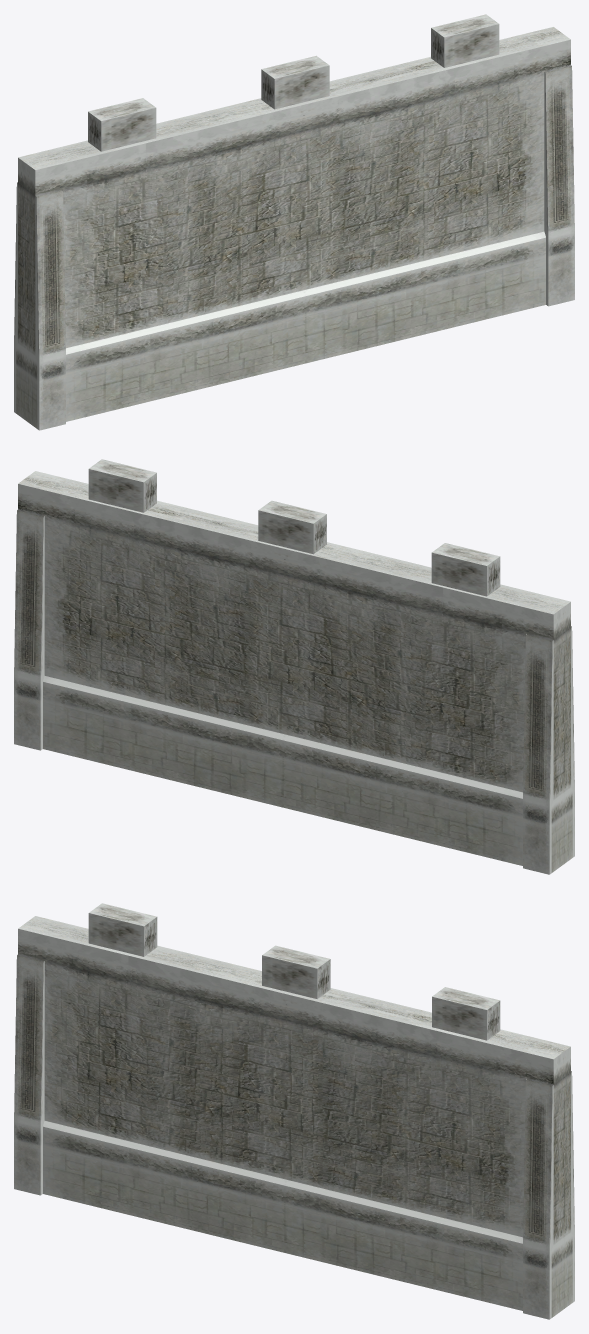
File: snow-bigdam-02.fbx
3 views of the same model, one above another, from view 1: azimuth 30°, elevation 25°; view 2: azimuth 150°, elevation 25°; view 3: azimuth 330°, elevation 25° (orthographic).
Visible parts, largest first — view 1: snow-bigdam-01; view 2: snow-bigdam-01; view 3: snow-bigdam-01.
Boxes of the visible parts, box(x1,y1,x2,y2) form: snow-bigdam-01: box(14, 14, 574, 430); snow-bigdam-01: box(14, 459, 574, 874); snow-bigdam-01: box(14, 903, 574, 1319).
Bounding box in the file's own units: 10.01 × 5.14 × 0.8224.
